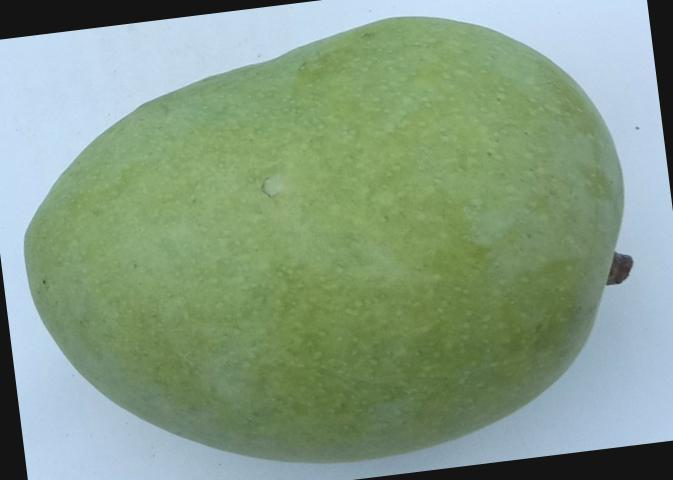Mango Unripe: (0, 0, 663, 480)
